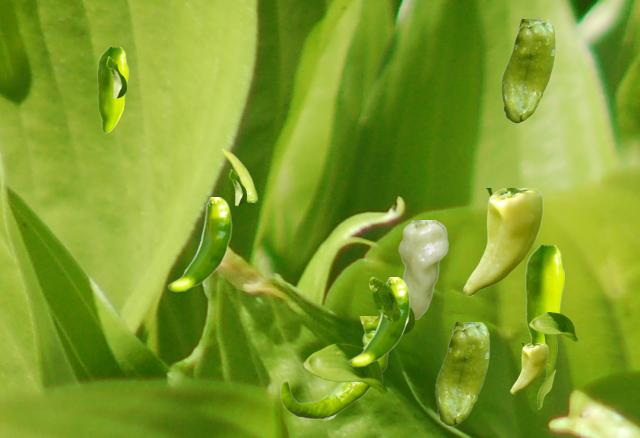green_chili: (280, 316, 388, 419), (463, 188, 542, 295), (167, 197, 231, 291), (435, 322, 488, 425), (501, 19, 554, 122), (348, 277, 409, 366), (398, 220, 447, 318), (525, 245, 563, 342), (97, 47, 127, 132), (221, 147, 256, 201), (510, 343, 547, 393), (543, 334, 556, 378)
